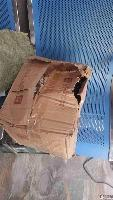damaged package: (24, 63, 96, 112)
undamaged: (0, 49, 94, 165)
